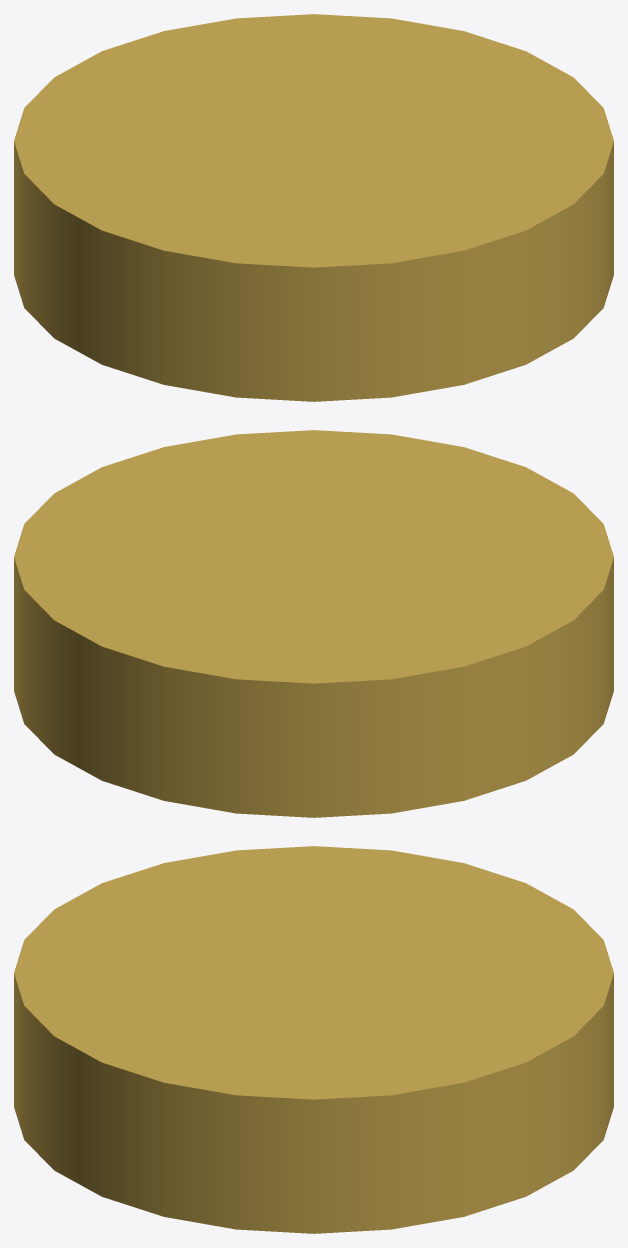
File: original-69.obj
3 renders of one model, top to bottom at view 1: azimuth 30°, elevation 25°; view 2: azimuth 150°, elevation 25°; view 3: azimuth 270°, elevation 25°, orthographic.
Visible parts, largest first — view 1: #ID408; view 2: #ID408; view 3: #ID408.
Boxes of the visible parts, <box> form: #ID408: <box>14,14,613,401</box>; #ID408: <box>14,430,613,817</box>; #ID408: <box>14,846,613,1233</box>.
Size of the model in its own units: 0.0336 by 0.00831 by 0.0336.
